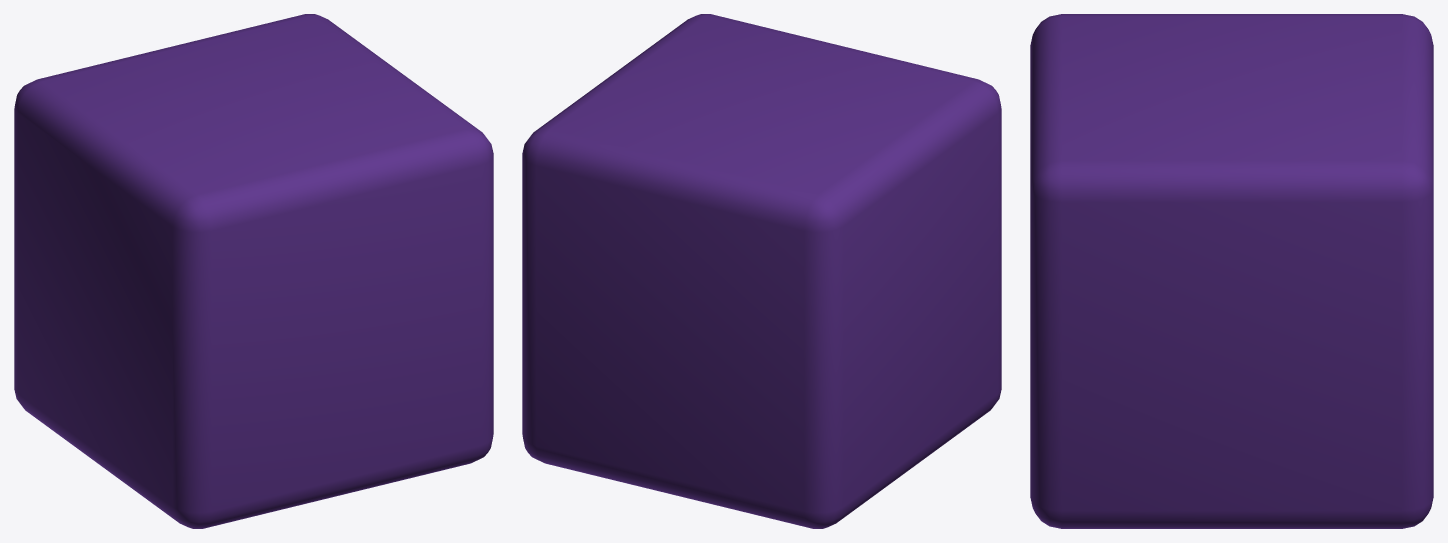
The model's file is mor.fbx.
3 renders of one model, left to right at view 1: azimuth 30°, elevation 25°; view 2: azimuth 150°, elevation 25°; view 3: azimuth 270°, elevation 25°, orthographic. The views are drawn at different scales.
Visible parts, largest first — view 1: Cube.012; view 2: Cube.012; view 3: Cube.012.
Boxes of the visible parts, <box> form: Cube.012: <box>14,14,493,528</box>; Cube.012: <box>522,14,1001,528</box>; Cube.012: <box>1030,14,1433,528</box>.
Size of the model in its own units: 200 by 200 by 200.
